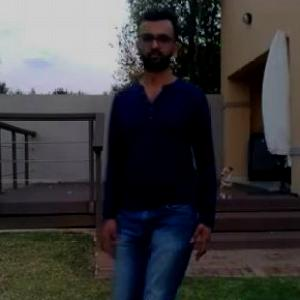follow: (94, 43, 188, 299)
